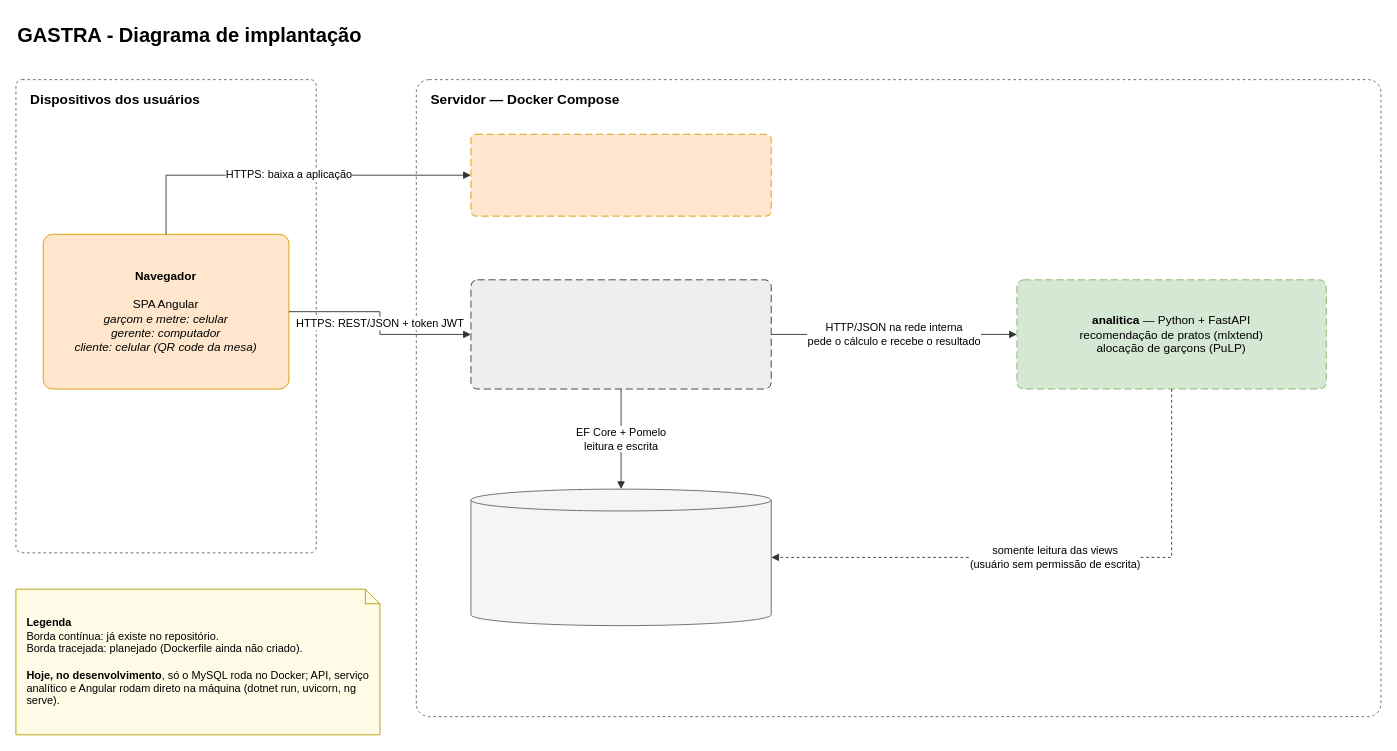
The diagram is 1397 pixels wide and 751 high, and some of its shapes have lost their labels. The centre of each missing label's shape, as x and y in pixels:
"api — ASP.NET Core (.NET 10) regras de negócio, autenticação, gravação no banco" belongs at point (620, 334).
"mysql — MySQL 8.4 tabelas + views de BI volume persistente" belongs at point (620, 557).
"web (nginx) arquivos estáticos do Angular" belongs at point (620, 174).
